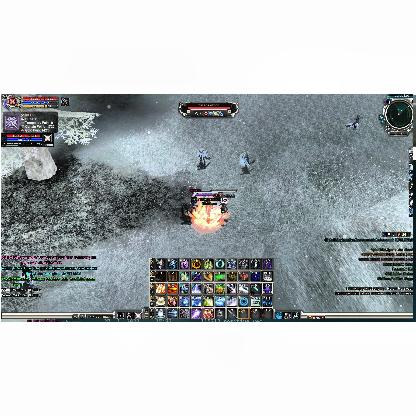caliana: (345, 114, 363, 130), (240, 154, 256, 168), (216, 204, 228, 221), (196, 150, 209, 164), (181, 201, 189, 217)
